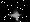person: (1, 7, 25, 22)
